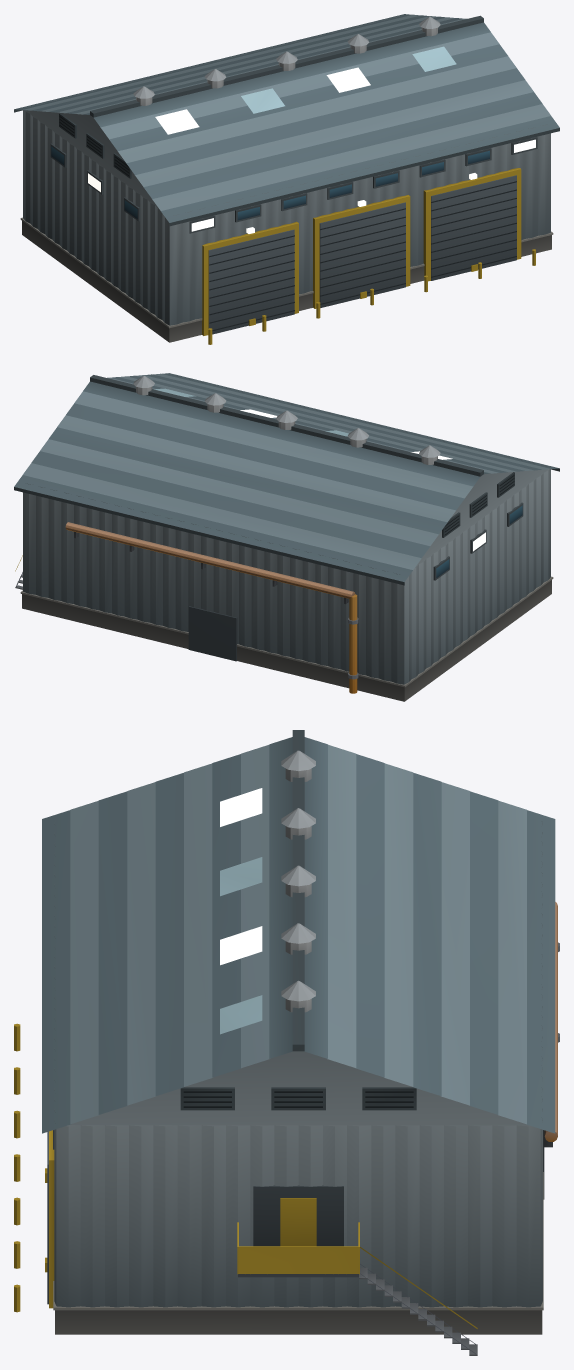
Rendered from bodega_puerto.glb.
3 renders of one model, top to bottom at view 1: azimuth 30°, elevation 25°; view 2: azimuth 150°, elevation 25°; view 3: azimuth 270°, elevation 25°, orthographic. The views are drawn at different scales.
Visible parts, largest first — view 1: bodega_puerto; view 2: bodega_puerto; view 3: bodega_puerto.
Part boxes in pixels (<box>): bodega_puerto: <box>14,14,559,344</box>; bodega_puerto: <box>14,373,559,701</box>; bodega_puerto: <box>14,730,559,1355</box>.
Size of the model in its own units: 26.3 by 11.46 by 18.04.
